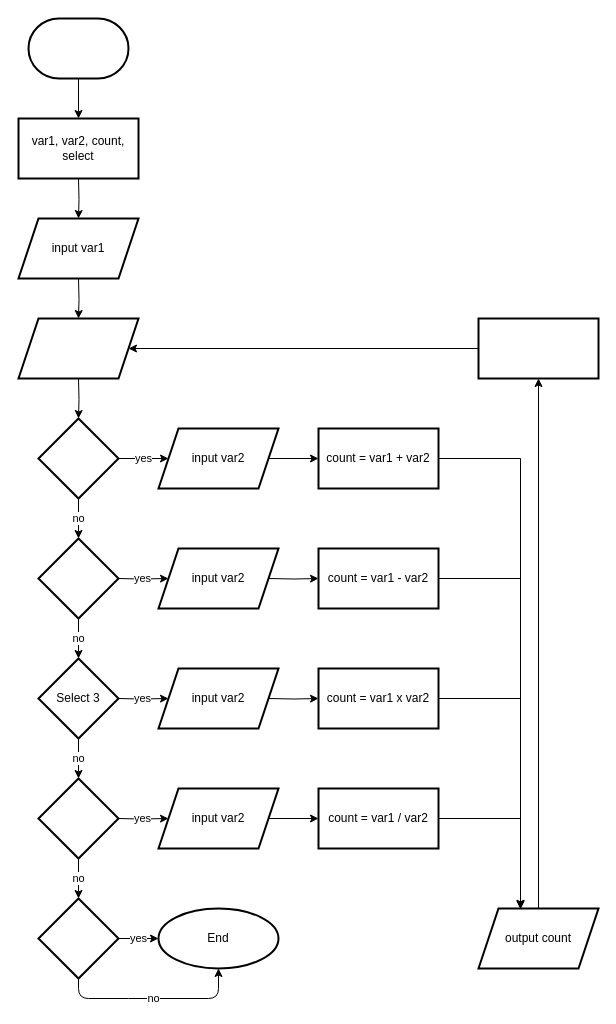
Image size: 616x1024. Some labels were removed from this diagram. Here are the shapes that lost their labels. From the top down, the box of each, then its label:
(27, 17, 129, 79): Start
(17, 317, 139, 379): input select
(477, 317, 599, 379): var1 = count
(37, 417, 119, 499): select 1
(37, 537, 119, 619): Select 2
(37, 777, 119, 859): Select 4
(37, 897, 119, 979): Select 5
